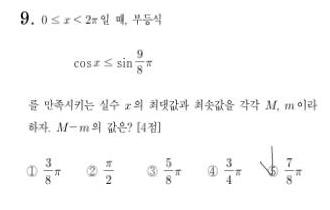choice: (263, 162, 279, 178)
not-choice: (84, 164, 99, 179), (24, 164, 40, 178), (205, 164, 219, 178), (146, 164, 158, 178)
